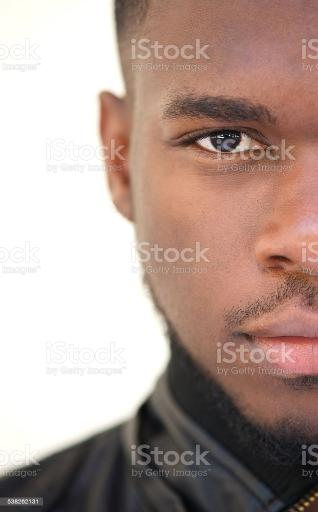right_eye: (174, 121, 268, 167)
right_lip_corner: (234, 322, 257, 350)
